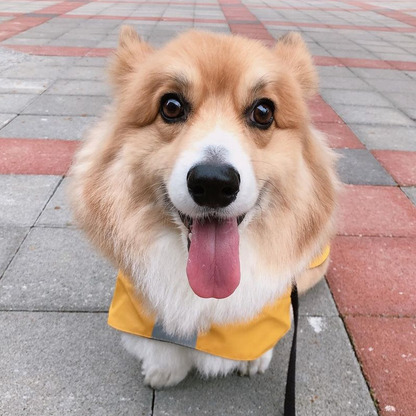Corgi: (82, 21, 347, 389)
